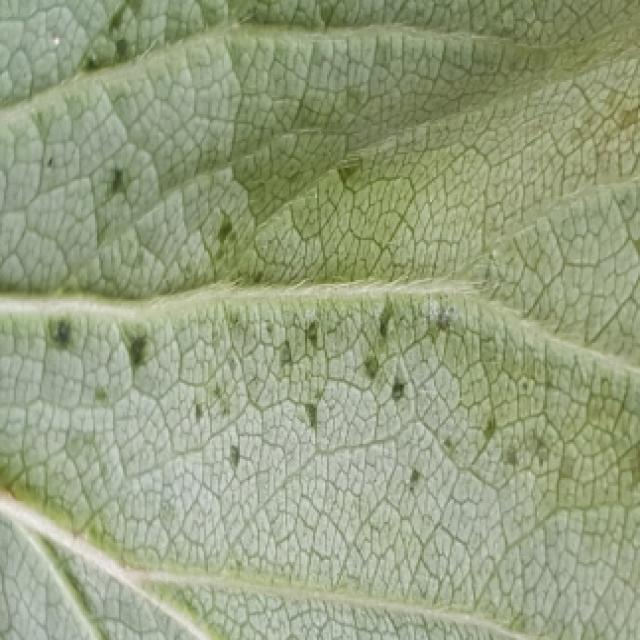Angular Leafspot: (0, 0, 640, 503)
